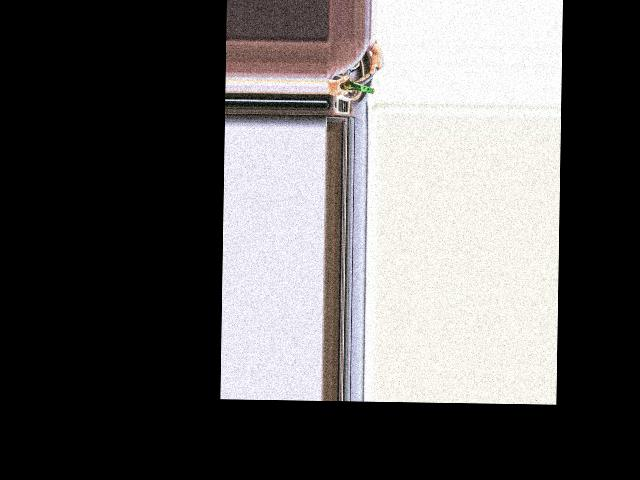beer: (330, 75, 374, 94)
